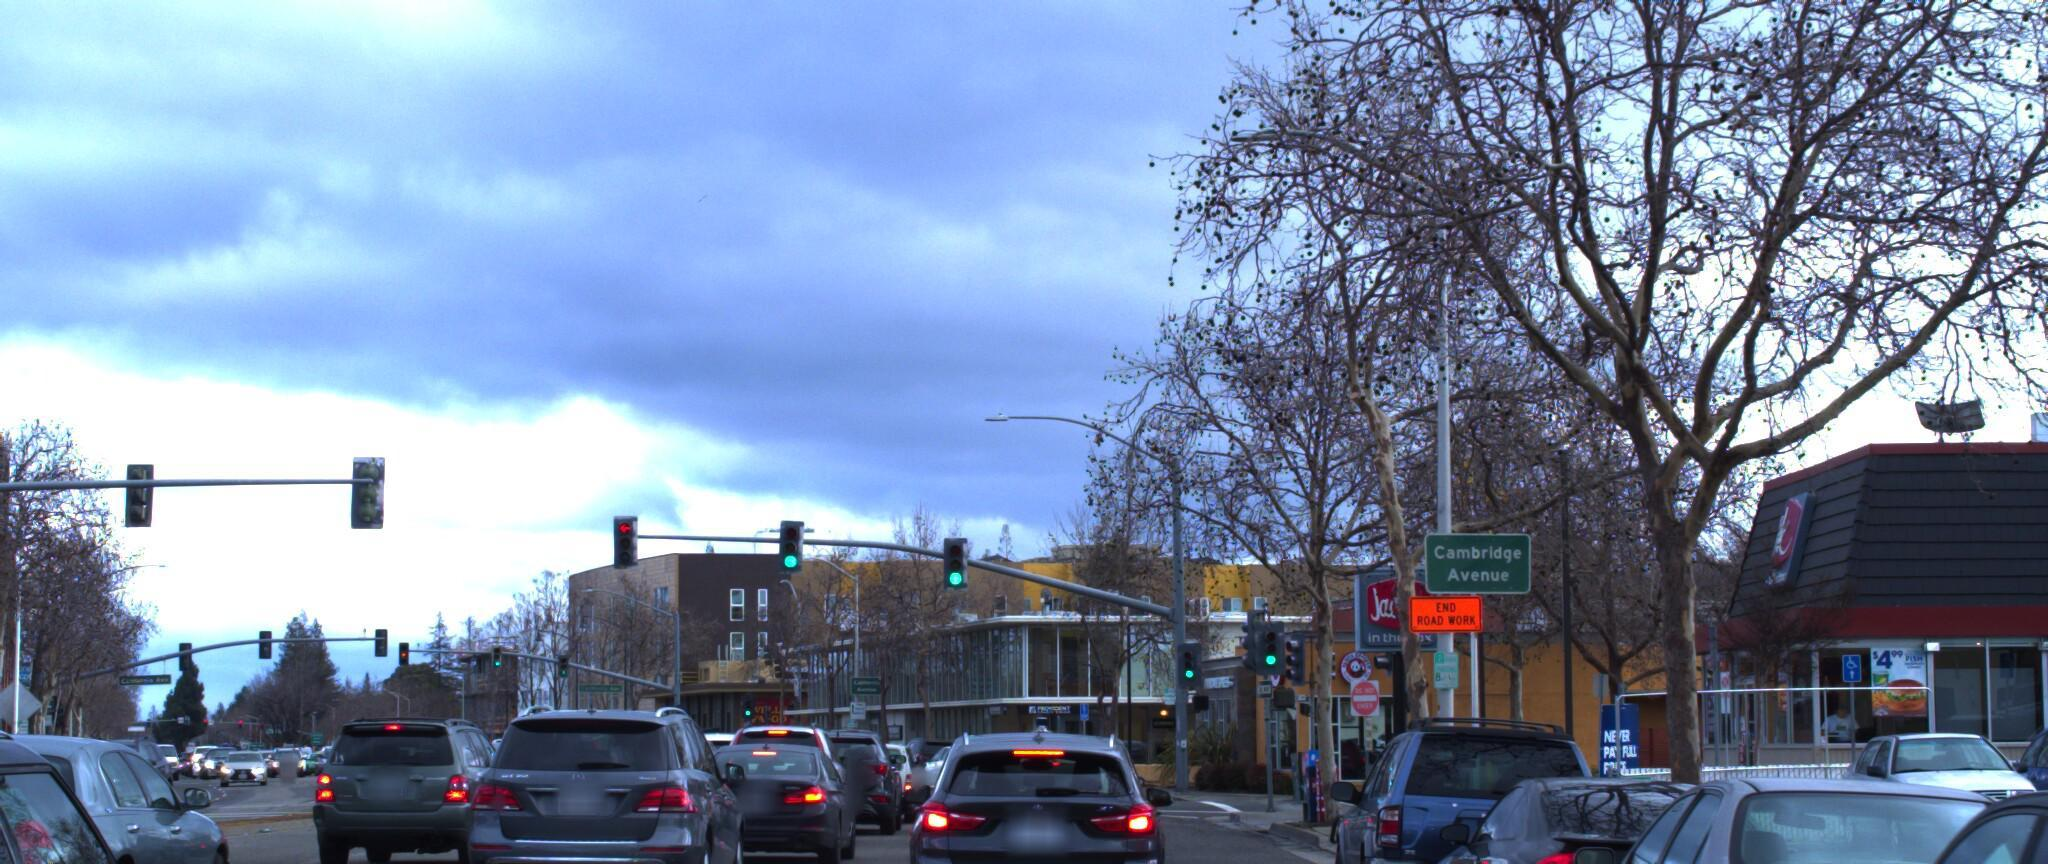car: (1510, 754, 2048, 864), (0, 690, 312, 864), (1401, 750, 1839, 864), (1307, 702, 1614, 864), (481, 702, 750, 864), (903, 735, 1176, 864), (304, 701, 513, 864), (1806, 718, 2048, 857), (0, 739, 265, 864), (1753, 760, 2048, 864), (940, 653, 1118, 800), (697, 736, 867, 864), (712, 707, 852, 813), (1970, 703, 2048, 854), (798, 726, 909, 827), (863, 710, 969, 791)
